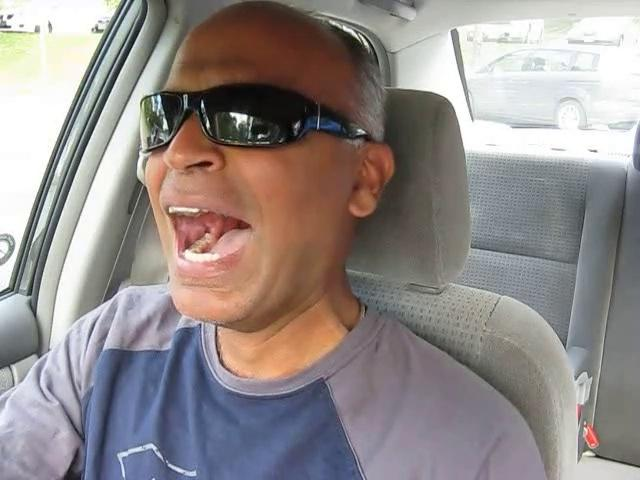yawn: (141, 185, 272, 282)
